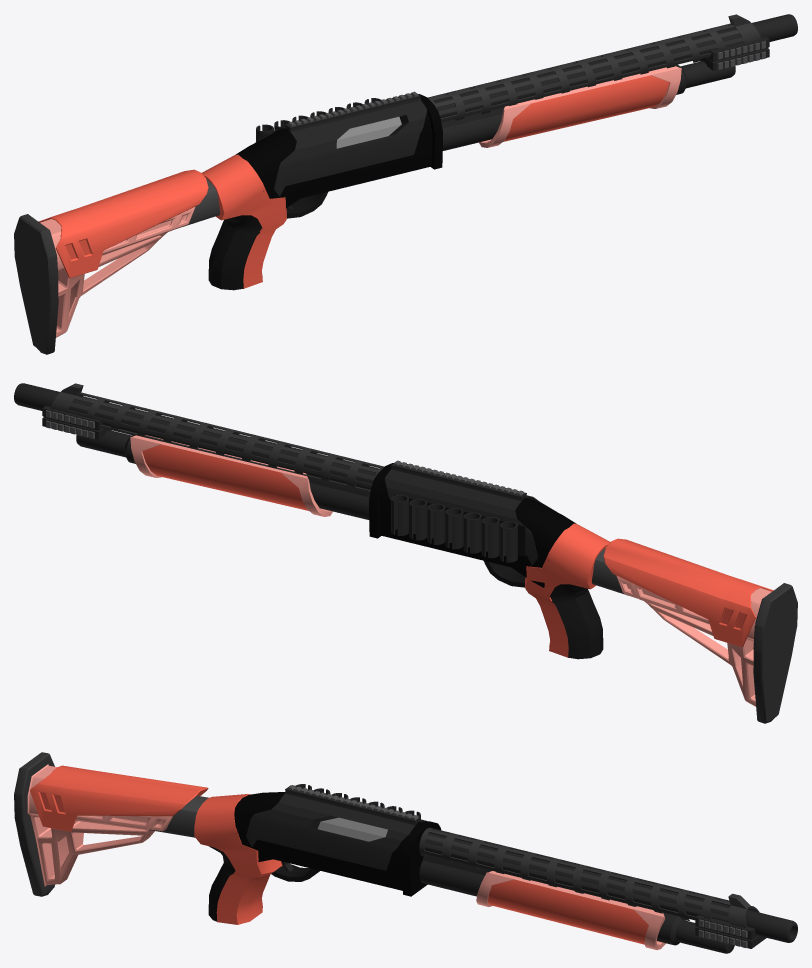
The model's file is ShotGun.fbx.
3 views of the same model, one above another, from view 1: azimuth 30°, elevation 25°; view 2: azimuth 150°, elevation 25°; view 3: azimuth 330°, elevation 25° (orthographic).
Parts seen in each view (by area): view 1: Mossberg_500_SWAT; view 2: Mossberg_500_SWAT; view 3: Mossberg_500_SWAT.
Boxes of the visible parts, bbox=[...] form: Mossberg_500_SWAT: bbox=[14, 14, 797, 354]; Mossberg_500_SWAT: bbox=[14, 383, 797, 723]; Mossberg_500_SWAT: bbox=[14, 752, 797, 953].
Size of the model in its own units: 2.8 by 0.5892 by 0.2605.
